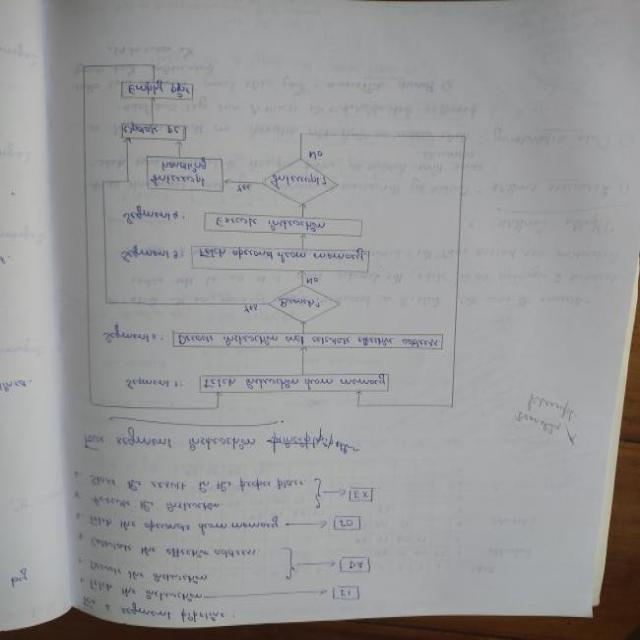Figure Detection - v3 Dataset Version2: (69, 46, 496, 415)
